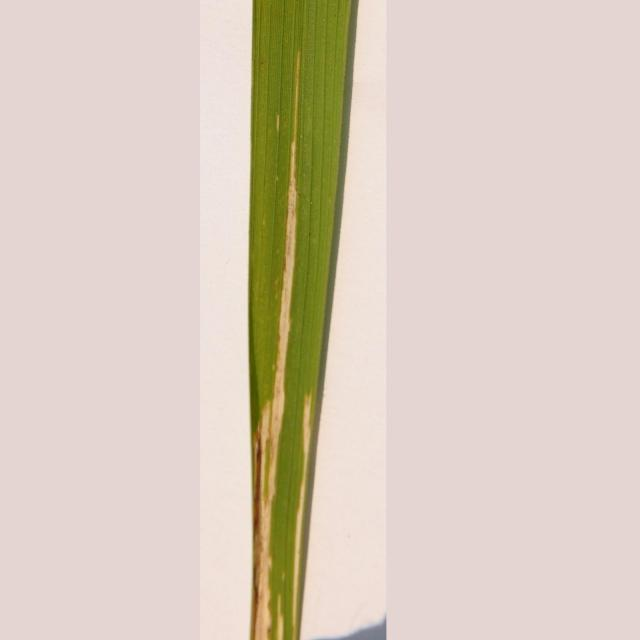leaf blight: (244, 42, 314, 639)
